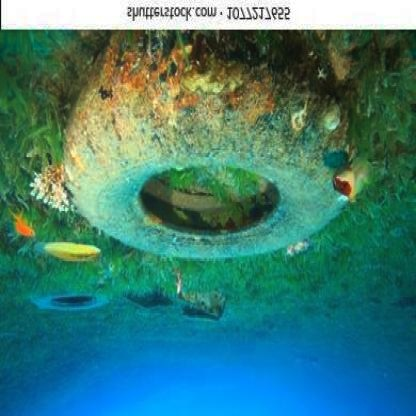tire: (55, 55, 352, 258), (33, 287, 116, 322)
